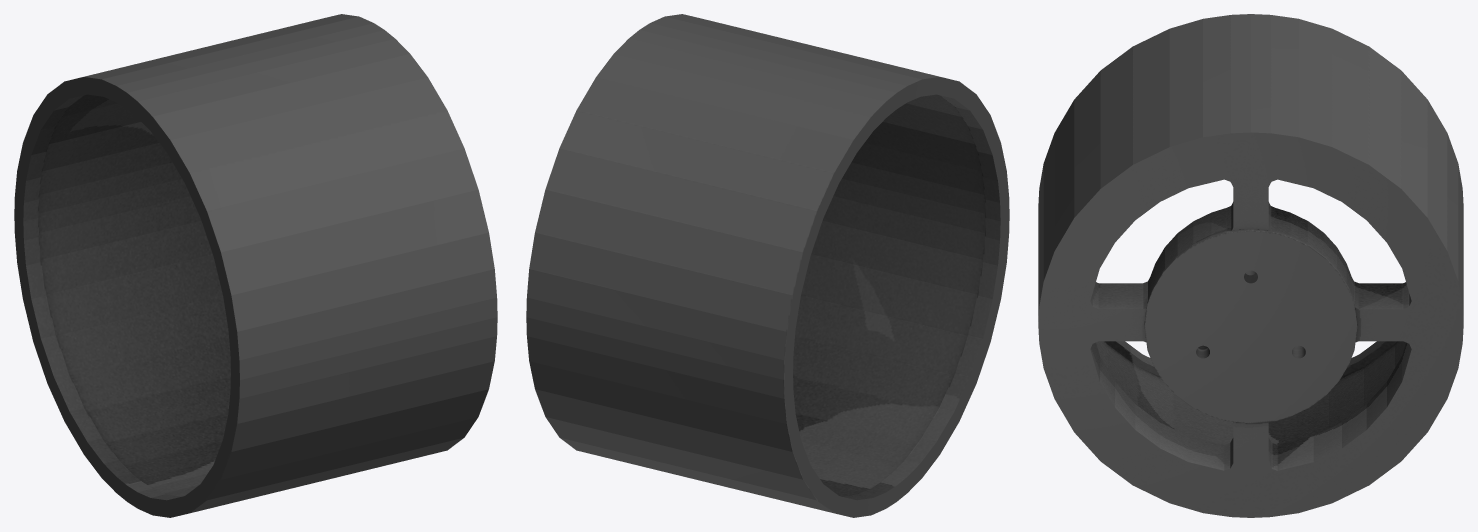
Rendered from wheel_light.dae.
The picture shows the model from 3 angles, left to right: view 1: azimuth 30°, elevation 25°; view 2: azimuth 150°, elevation 25°; view 3: azimuth 270°, elevation 25°; orthographic projection. The views are drawn at different scales.
Parts seen in each view (by area): view 1: Cylinder_000_001; view 2: Cylinder_000_001; view 3: Cylinder_000_001.
Part boxes in pixels (x1=…): Cylinder_000_001: x1=14, y1=14, x2=497, y2=517; Cylinder_000_001: x1=526, y1=14, x2=1009, y2=517; Cylinder_000_001: x1=1038, y1=14, x2=1463, y2=517.
Bounding box in the file's own units: 0.3247 × 0.485 × 0.485.
Materials: 1 (1 with a texture image).
